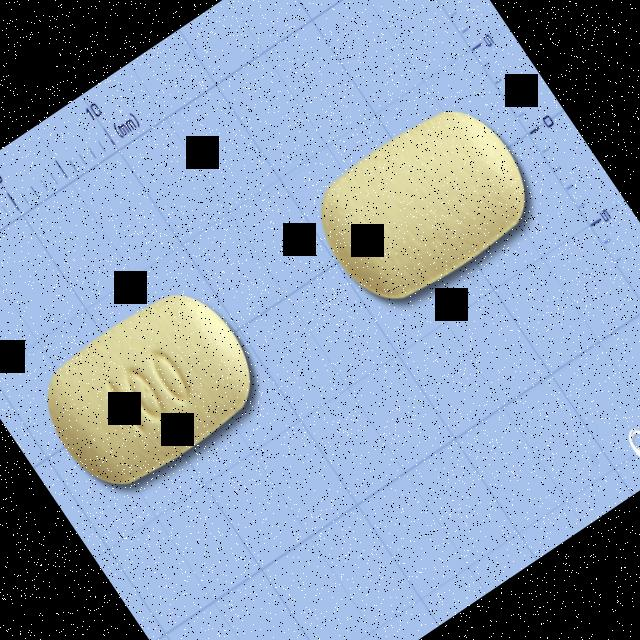Noxafil Gastro-Resistant Tab: (23, 271, 276, 508)
